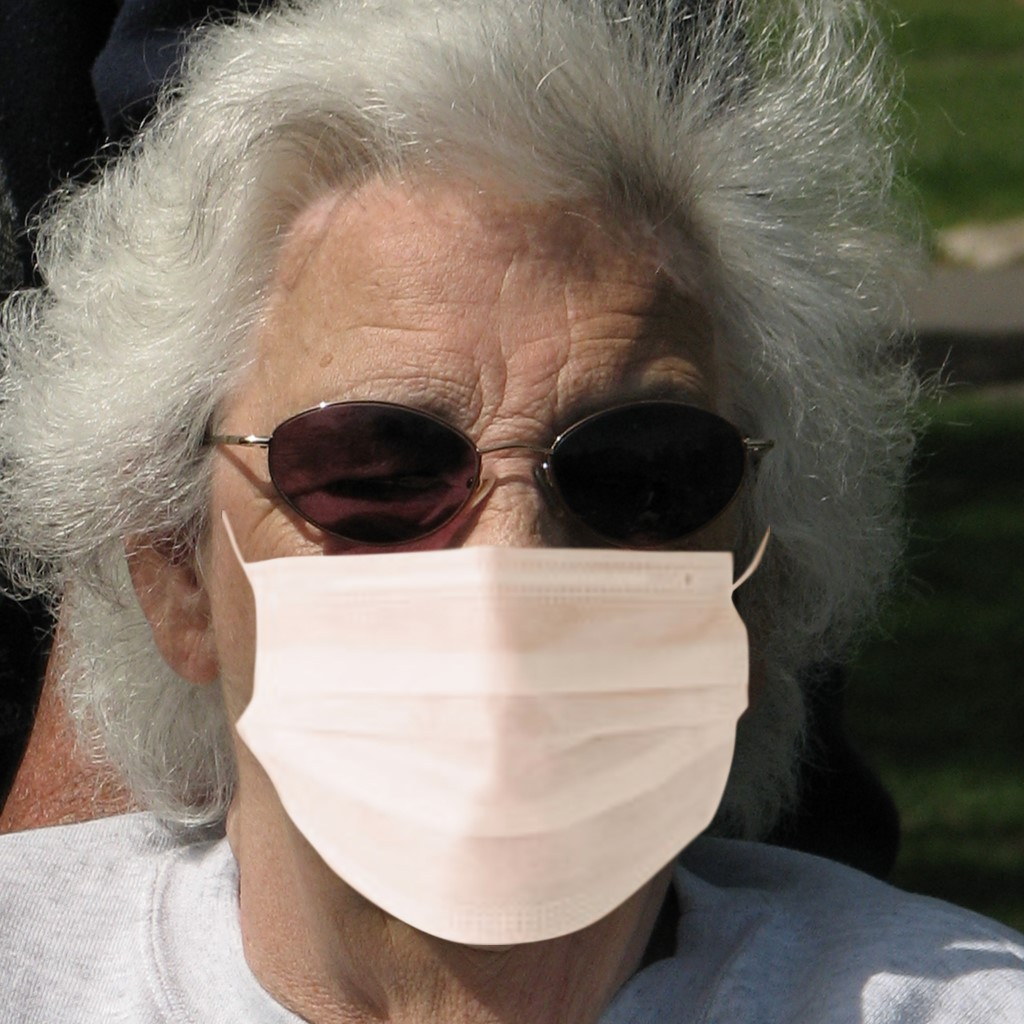con_mascara: (167, 98, 766, 951)
